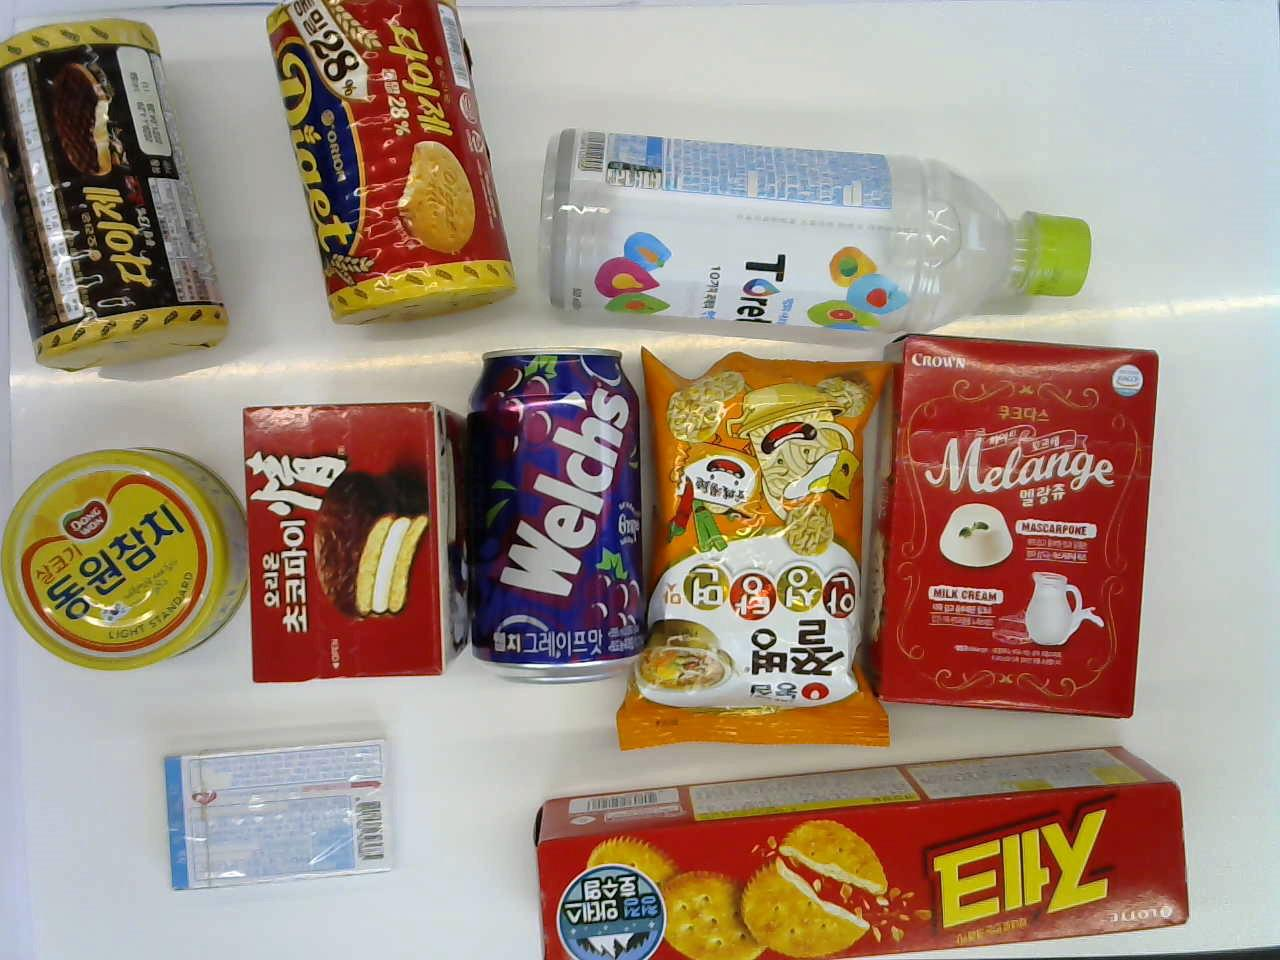ID_gum: (166, 735, 395, 892)
chocopie: (244, 402, 462, 689)
couque_white: (881, 333, 1160, 722)
diget_choco: (0, 23, 225, 381)
diget_ori: (263, 0, 518, 327)
jjolbyung_noodle: (628, 341, 887, 746)
toreta: (540, 124, 1091, 327)
tuna: (2, 446, 250, 666)
welchs: (465, 343, 641, 685)
zec: (535, 745, 1189, 960)
